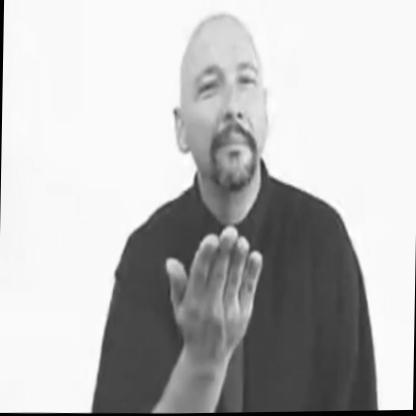ThankYou: (94, 11, 350, 415)
